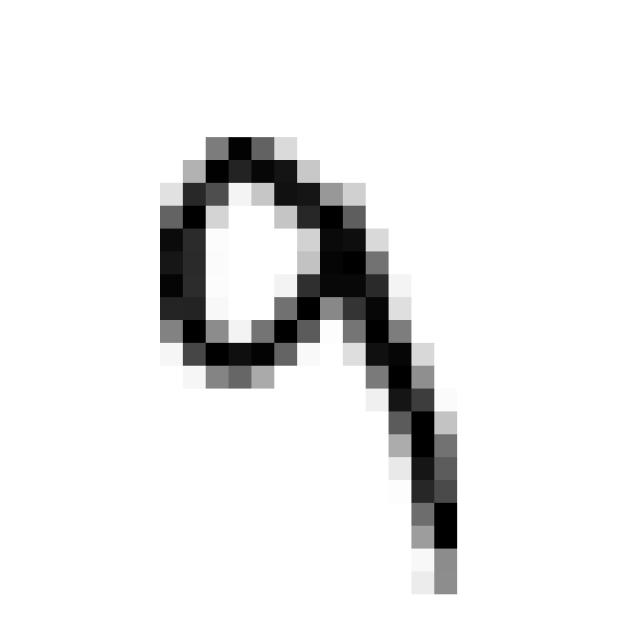9 -nine-: (139, 117, 477, 615)
